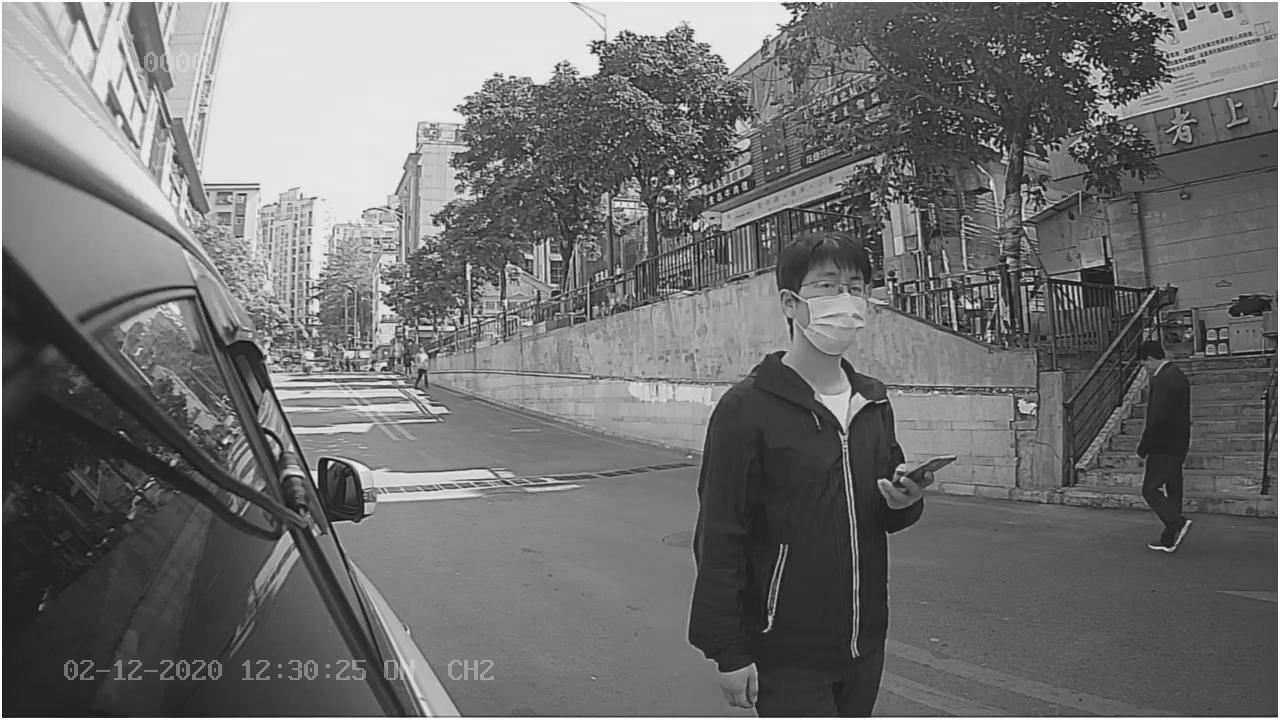person: (682, 232, 946, 712)
